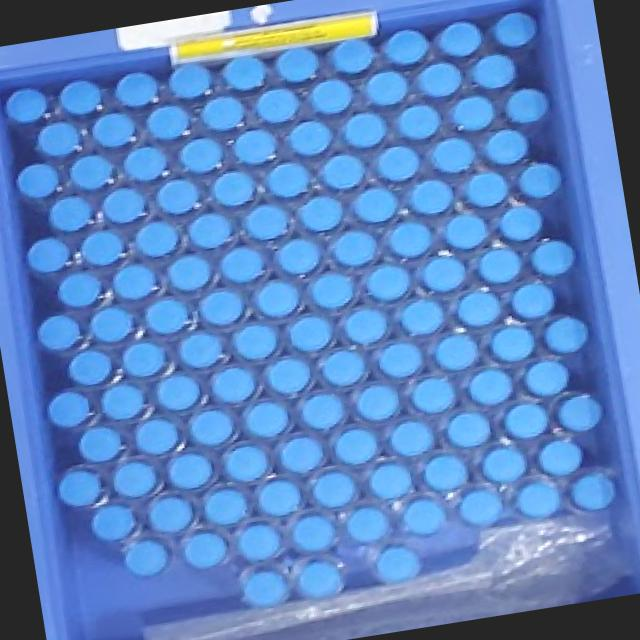vials: (294, 557, 344, 599), (373, 545, 422, 584), (243, 569, 289, 608), (557, 394, 603, 432), (299, 393, 346, 430), (571, 472, 616, 510), (57, 271, 103, 308), (292, 514, 336, 552), (366, 265, 411, 302), (255, 281, 300, 318), (544, 316, 589, 353), (244, 401, 289, 438), (468, 368, 513, 405), (279, 436, 324, 473), (168, 453, 213, 490), (482, 446, 527, 483), (516, 481, 561, 518), (459, 489, 504, 526), (124, 539, 169, 576), (383, 30, 429, 66), (417, 62, 463, 98), (320, 154, 366, 190), (238, 524, 281, 562), (465, 171, 509, 208), (168, 254, 212, 291), (91, 306, 135, 343), (401, 299, 445, 336), (79, 426, 123, 463), (136, 418, 180, 455), (190, 409, 234, 446), (538, 439, 582, 476), (334, 428, 378, 465), (225, 445, 269, 482), (150, 496, 194, 533), (204, 488, 248, 525), (312, 471, 356, 508), (424, 454, 468, 491), (402, 498, 446, 535), (437, 21, 482, 57), (409, 179, 454, 215), (353, 187, 398, 223), (531, 240, 576, 276), (199, 290, 244, 326), (233, 324, 278, 360), (266, 358, 311, 394), (524, 360, 569, 396), (504, 403, 549, 439), (113, 461, 158, 497), (311, 272, 354, 309), (435, 334, 478, 371), (258, 479, 301, 516), (184, 532, 227, 569), (505, 88, 549, 124), (179, 138, 223, 174), (49, 196, 93, 232), (266, 162, 310, 198), (376, 146, 420, 182), (518, 163, 562, 199), (299, 196, 343, 232), (245, 204, 289, 240), (188, 213, 232, 249), (27, 237, 71, 273), (113, 264, 157, 300), (220, 247, 264, 283), (277, 239, 321, 275), (388, 222, 432, 258), (444, 214, 488, 250), (499, 205, 543, 241), (288, 316, 332, 352), (457, 291, 501, 327), (491, 326, 535, 362), (157, 375, 201, 411), (447, 412, 491, 448), (471, 54, 516, 89), (431, 138, 476, 173), (332, 231, 377, 266), (378, 343, 423, 378), (48, 391, 90, 428), (37, 121, 80, 157), (310, 79, 353, 115), (233, 129, 276, 165), (157, 179, 200, 215), (212, 171, 255, 207), (136, 221, 179, 257), (479, 248, 522, 284), (38, 315, 81, 351), (180, 332, 223, 368), (356, 385, 399, 421), (59, 470, 102, 506), (93, 505, 136, 541), (346, 507, 389, 543), (493, 12, 537, 47), (223, 56, 267, 91), (70, 155, 114, 190), (451, 96, 495, 131), (397, 105, 441, 140), (288, 121, 332, 156), (484, 130, 528, 165), (422, 257, 466, 292), (68, 350, 112, 385), (411, 378, 455, 413), (390, 421, 434, 456), (345, 308, 387, 344), (323, 350, 365, 386), (369, 463, 411, 499), (276, 48, 319, 83), (115, 72, 158, 107), (92, 113, 135, 148), (201, 96, 244, 131), (365, 71, 408, 106), (124, 146, 167, 181), (17, 164, 60, 199), (146, 299, 189, 334), (212, 368, 255, 403), (256, 89, 300, 123), (104, 188, 145, 224), (103, 384, 144, 420), (332, 39, 374, 74), (169, 64, 211, 99), (60, 80, 102, 115), (6, 88, 48, 123), (344, 113, 386, 148), (82, 231, 124, 266), (124, 342, 166, 377), (512, 284, 554, 319), (147, 106, 190, 140)
